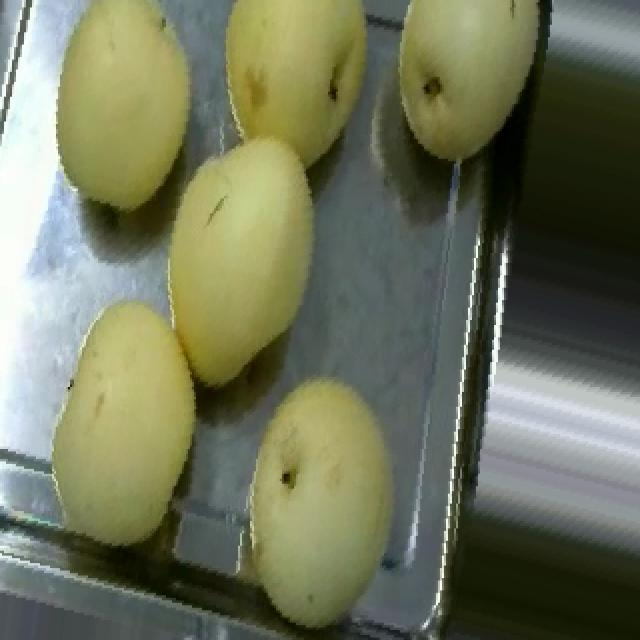Fruit: (18, 273, 228, 573), (204, 352, 420, 640), (128, 117, 336, 409), (28, 0, 222, 236), (196, 0, 394, 186), (374, 0, 570, 176)
